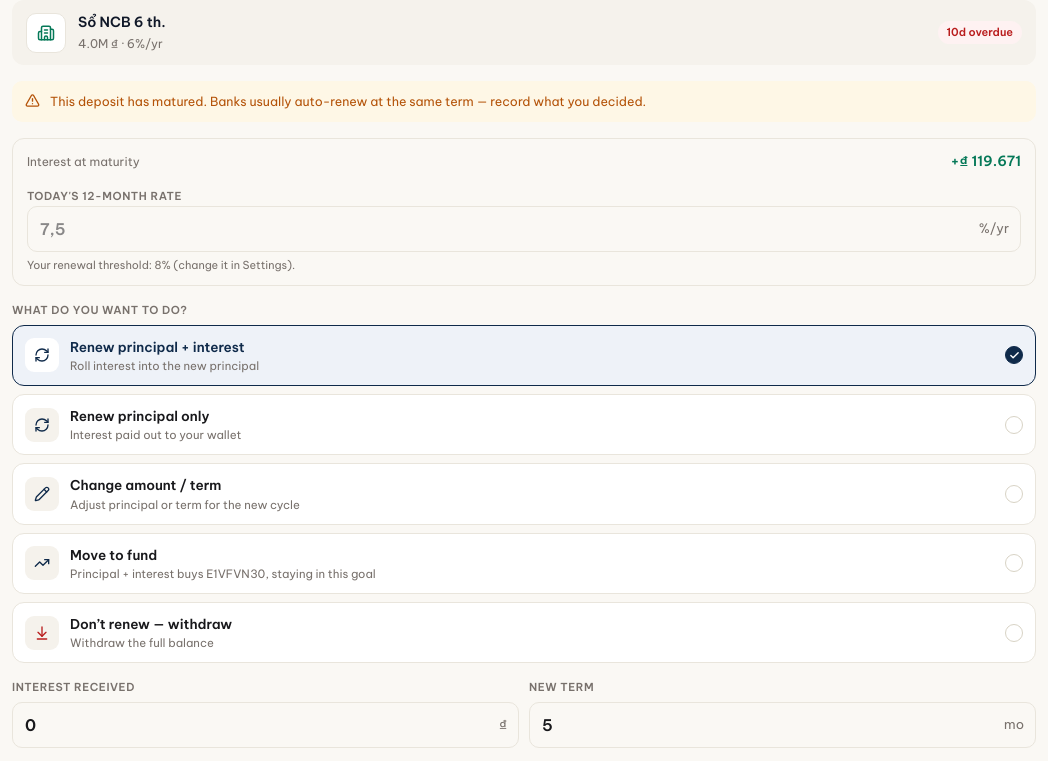
it: MaturityResolveBody — a deposit parked for several funds › keeps the single-fund move for a deposit parked for one fund
Click the button "Move to fund": (42, 563) 12,533 -> 1036,594
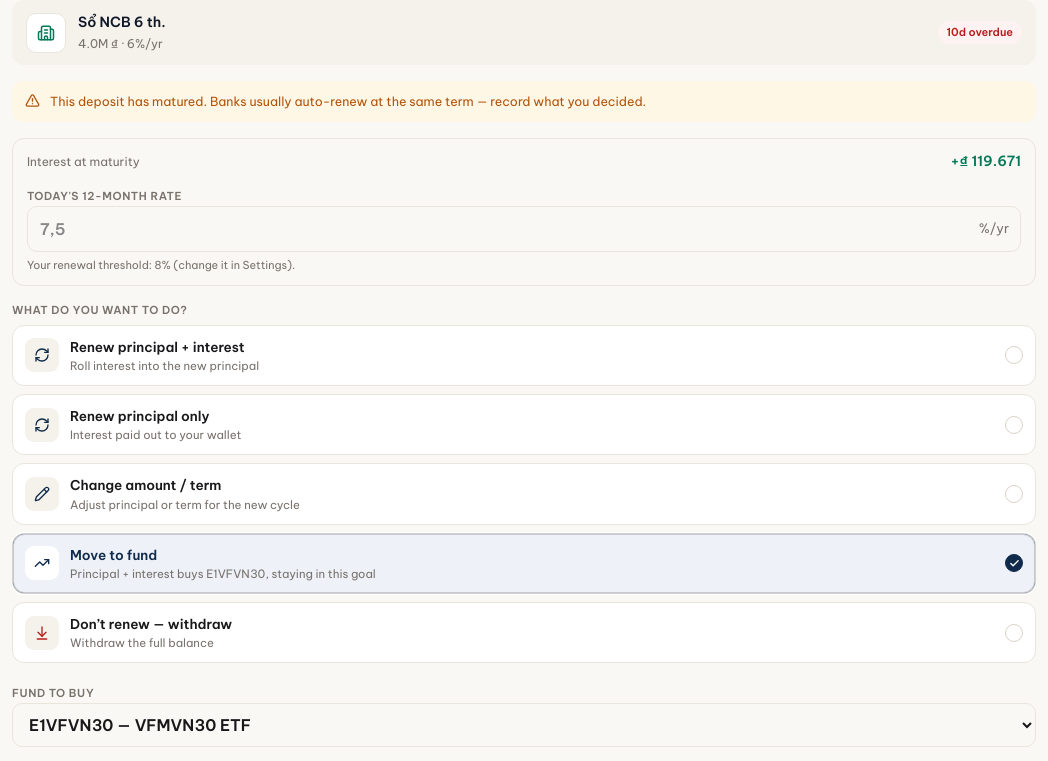
Check: the dropdown with test id "move-fund-select" shows "E1VFVN30 — VFMVN30 ETF", box 12,703 -> 1036,747
